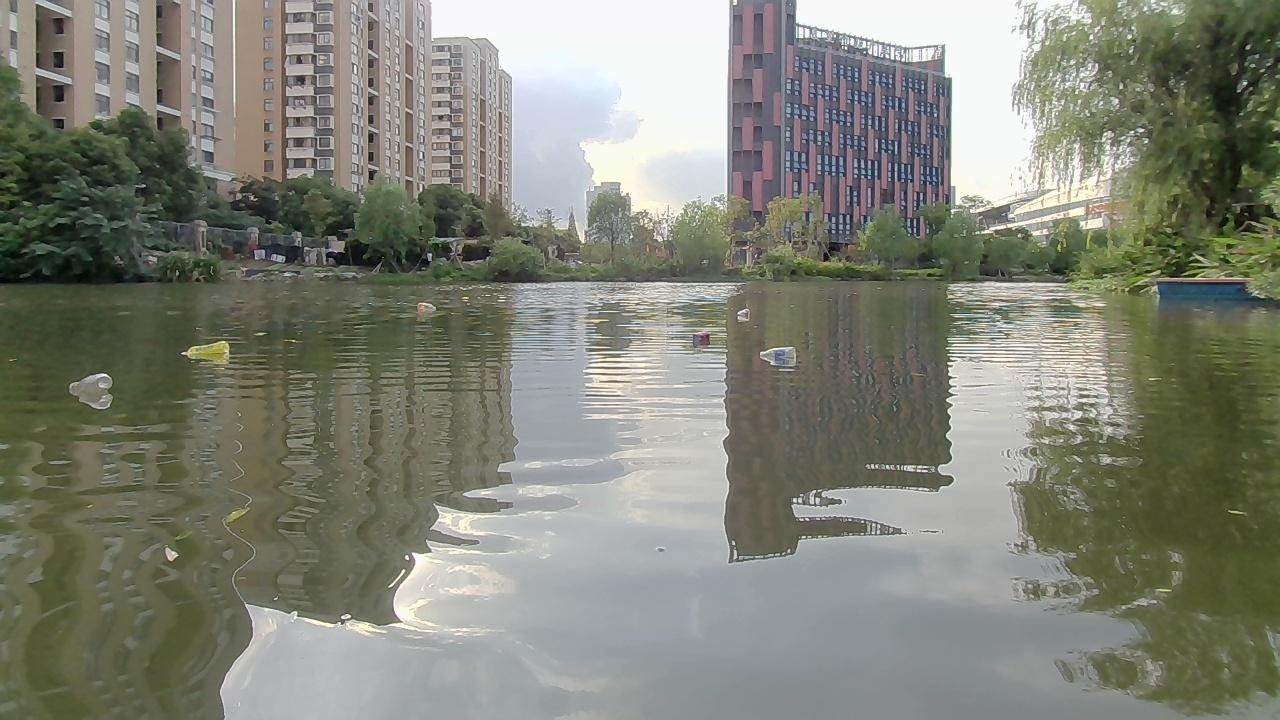bottle: (65, 370, 117, 397), (181, 336, 230, 360), (761, 342, 793, 365), (689, 325, 726, 343), (736, 303, 751, 322), (415, 302, 435, 313)
